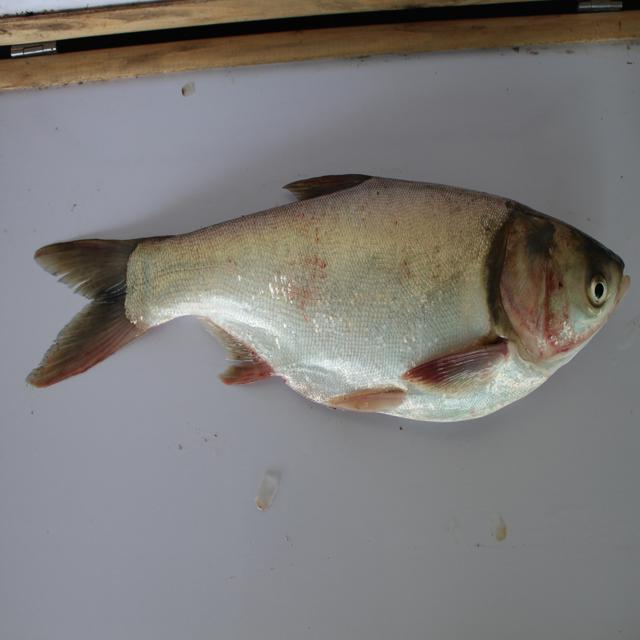SilverCarp: (13, 168, 640, 441)
